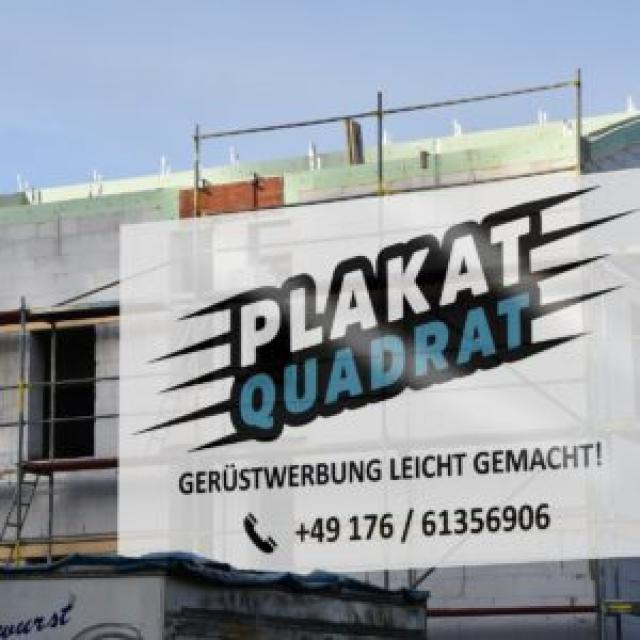Werbetafel frei: (114, 163, 640, 566)
